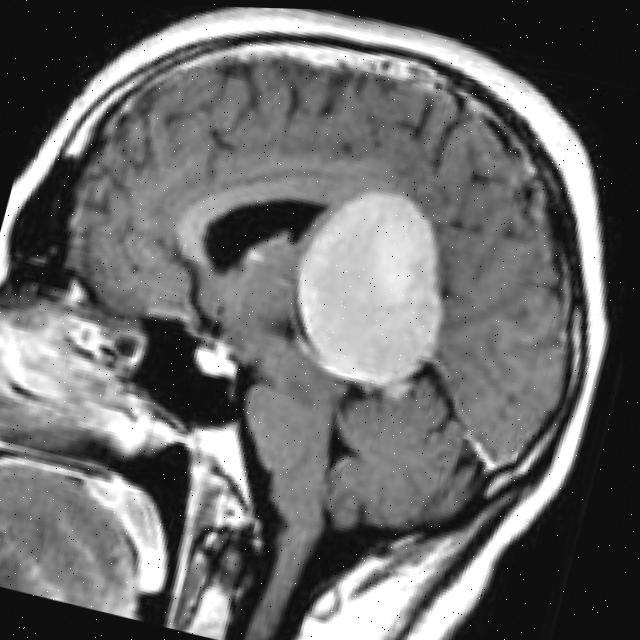Meningioma: (269, 172, 478, 403)
